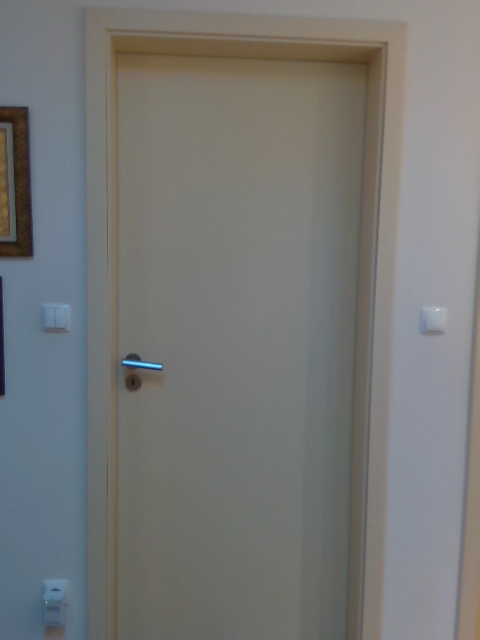closed: (87, 7, 401, 633)
